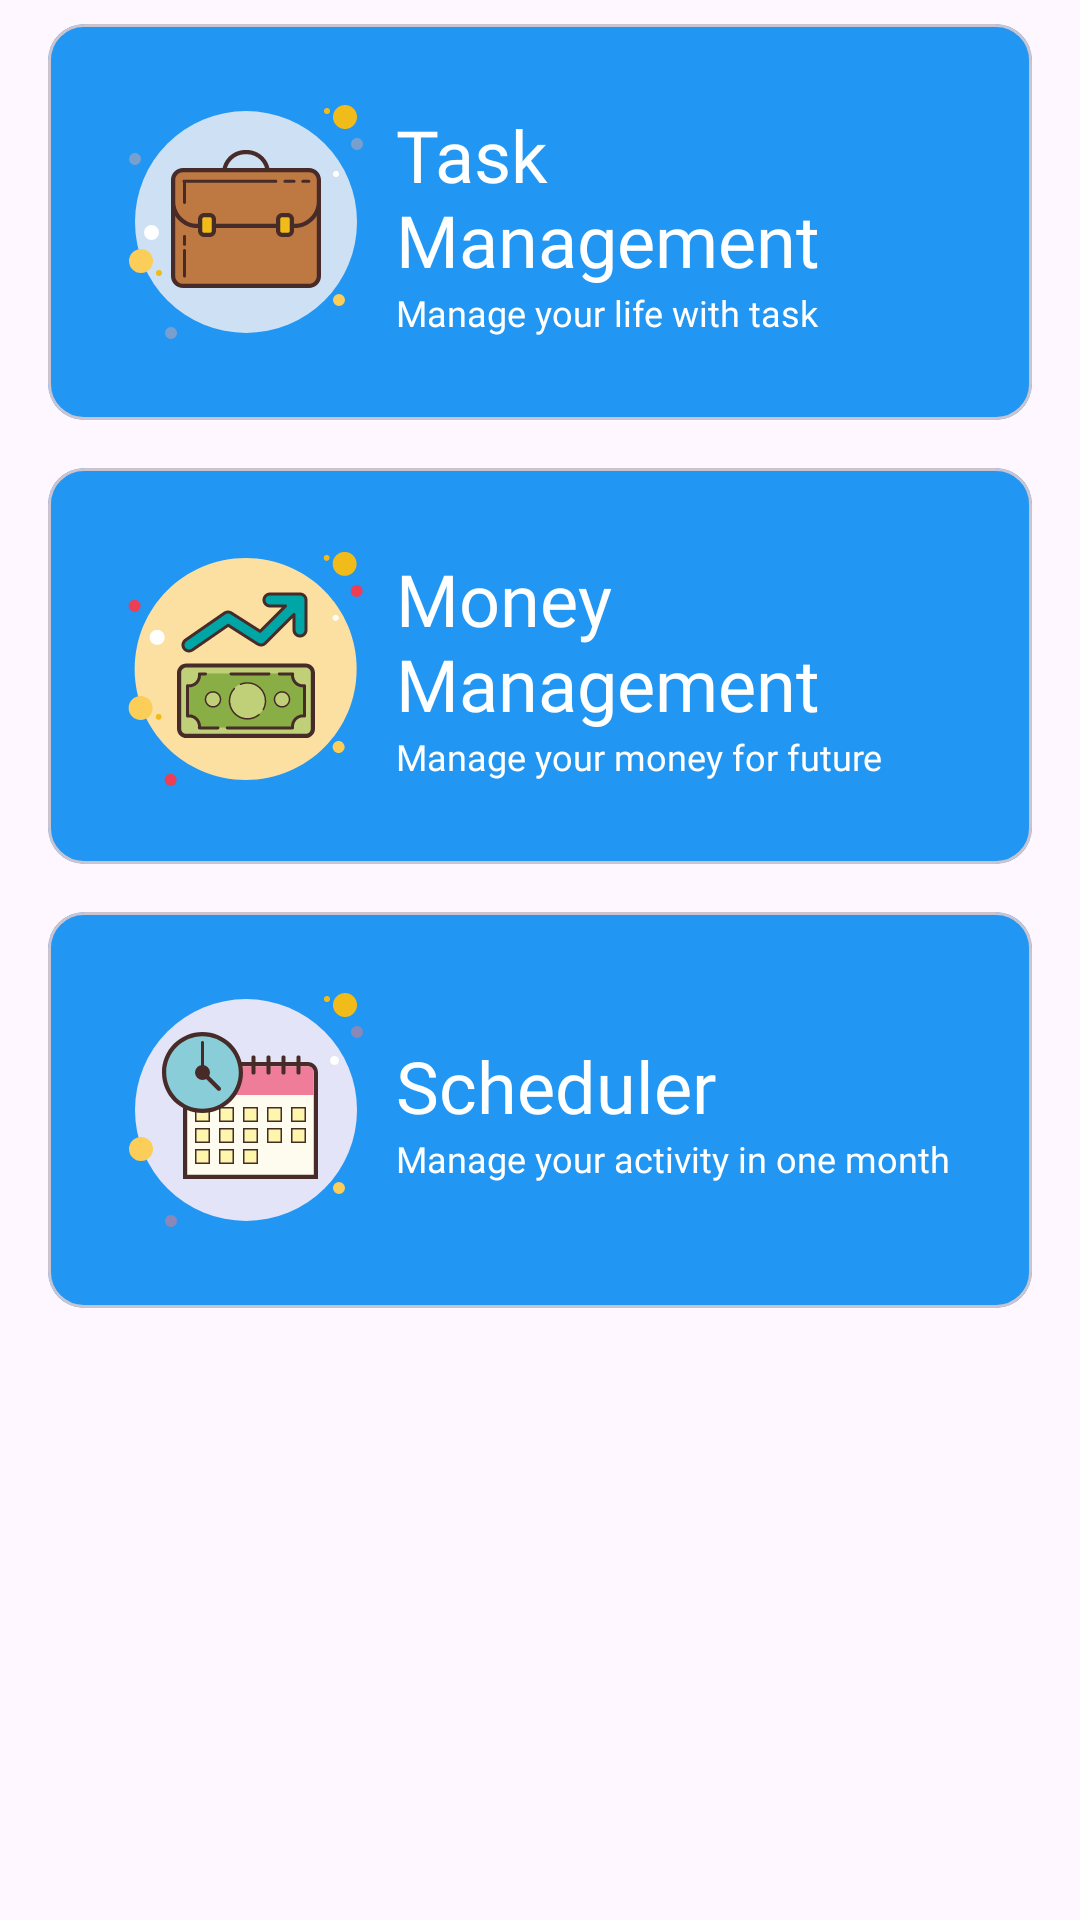

Named icons in this screenshot (1080w x 1920h) and their bounding boxes, (x1, y1, x2, y2):
profit: (128, 552, 363, 786)
task office: (129, 105, 363, 339)
